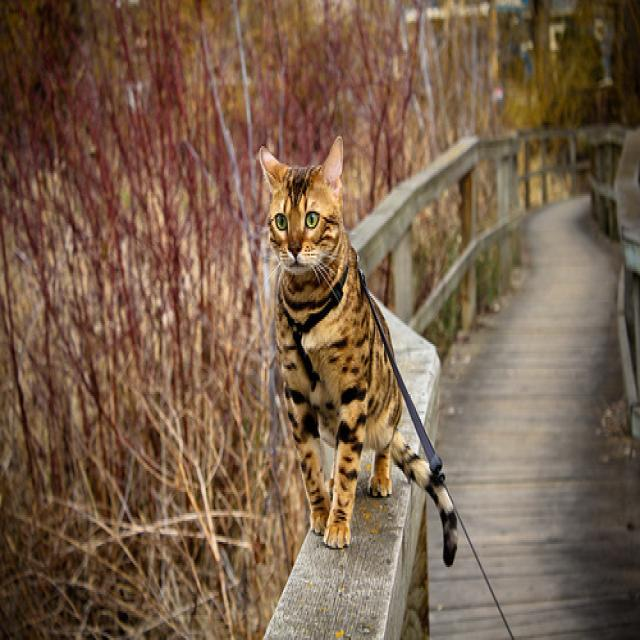Bengal: (247, 132, 356, 285)
